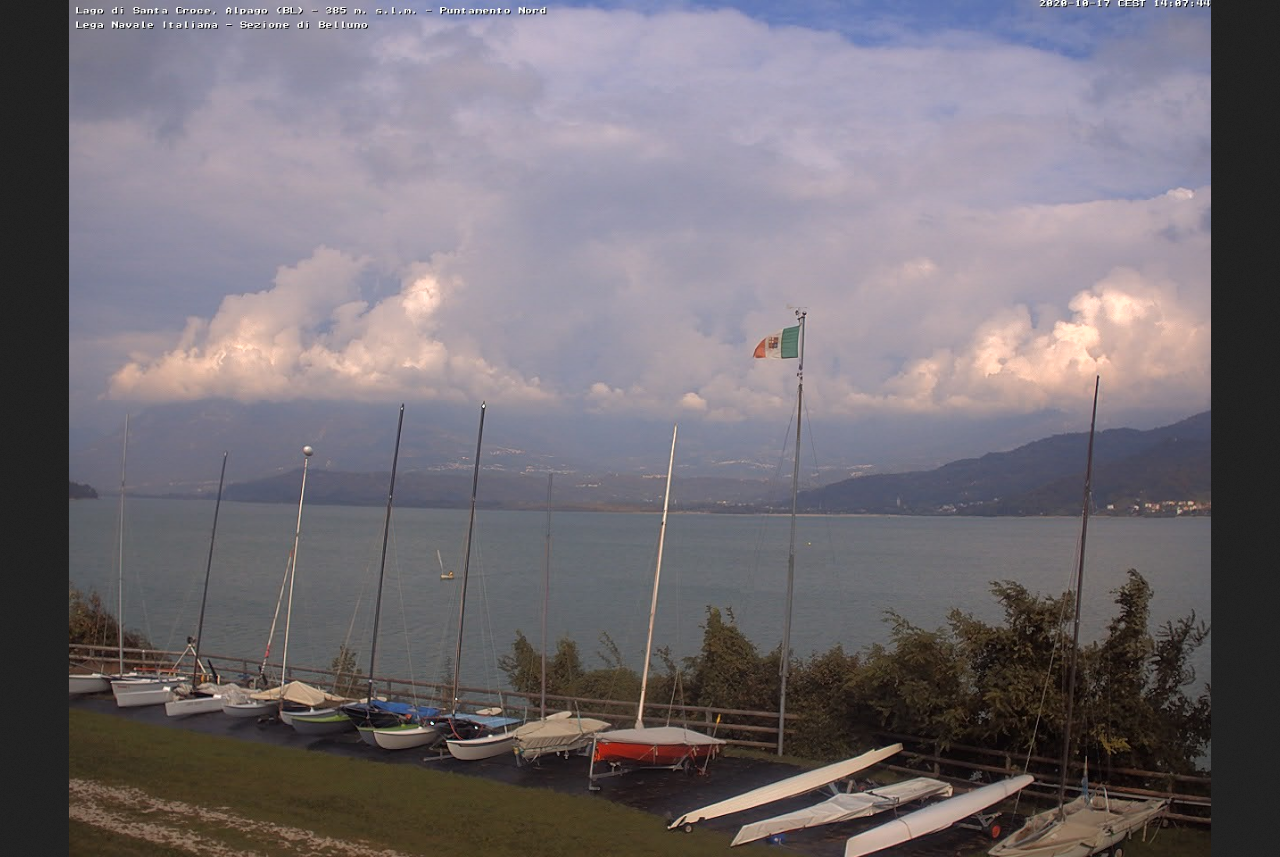yes: (750, 327, 799, 361)
